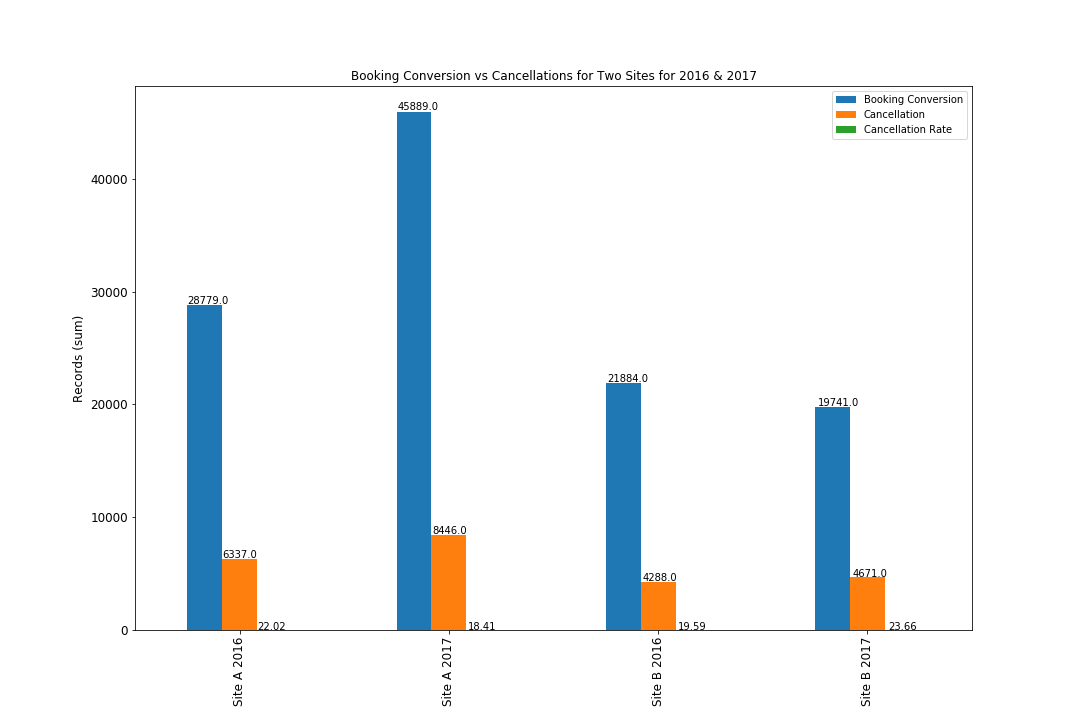

The dashboard page shown, as its layout file describes it:
{"tool":"tableau","page":{"name":"BarChart","canvas":[1000,800],"ordinal":1},"visuals":[{"type":"filter","title":"All-Viz-1","param":"[federated.0fqd9971pobdc41fchzsx0ctk5mb].[none:Site:nk]","box":[8,8,143,75]},{"type":"filter","title":"All-Viz-1","param":"[federated.0fqd9971pobdc41fchzsx0ctk5mb].[none:Year of Date Id:nk]","box":[151,8,182,75]},{"type":"filter","title":"All-Viz-1","param":"[federated.0fqd9971pobdc41fchzsx0ctk5mb].[none:Measure Names:nk]","box":[333,8,353,75]},{"type":"filter","title":"All-Viz-1","param":"[federated.0fqd9971pobdc41fchzsx0ctk5mb].[none:Supplier Type:nk]","box":[686,8,146,75]},{"type":"filter","title":"All-Viz-1","param":"[federated.0fqd9971pobdc41fchzsx0ctk5mb].[none:Person Type:nk]","box":[832,8,160,75]},{"type":"worksheet","title":"All-Viz-1","mark":"Automatic","rows":["Measure Names","Person Type","Site","Supplier Type"],"cols":["Measure Values"],"box":[8,83,984,709]}]}

Visuals, with their boxes on the page's 1000x800 design canvas (x1, y1, x2, y2). These are canvas units, not pixel positions in the 1080x720 screenshot, which may show the page scaled, cropped or inside an application window:
"All-Viz-1" filter: select_region(8, 8, 151, 83)
"All-Viz-1" filter: select_region(151, 8, 333, 83)
"All-Viz-1" filter: select_region(333, 8, 686, 83)
"All-Viz-1" filter: select_region(686, 8, 832, 83)
"All-Viz-1" filter: select_region(832, 8, 992, 83)
"All-Viz-1" worksheet: select_region(8, 83, 992, 792)
